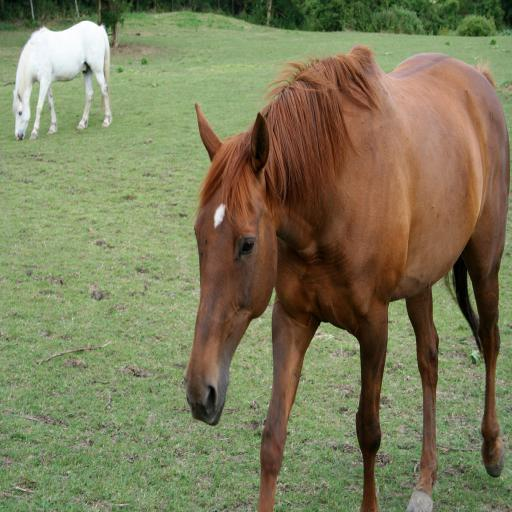horse: (180, 42, 512, 512), (12, 22, 112, 140)
